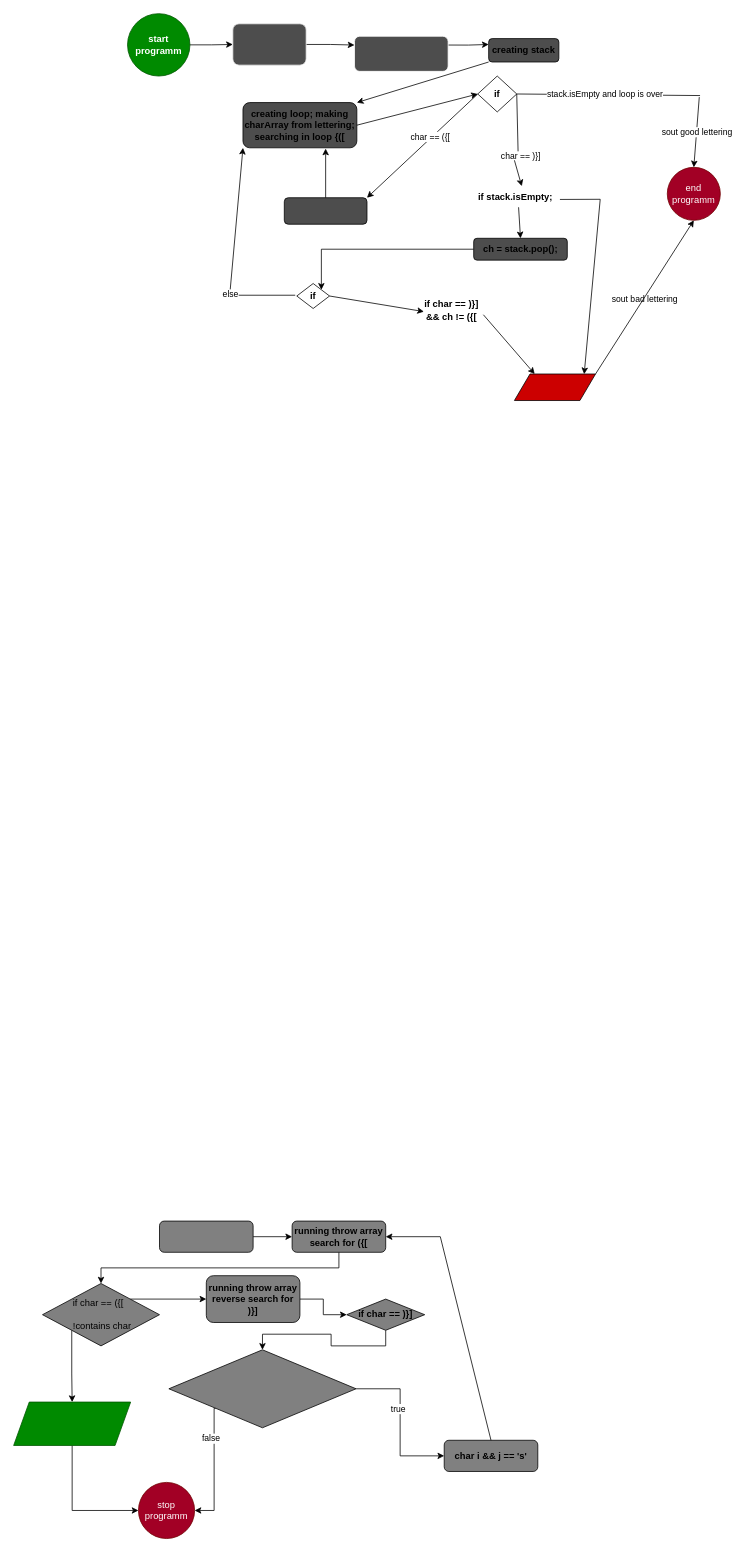
Some shapes in this 746 by 1552 pixel diagram are drawn without their labels. The shapes that lost their labels are listed below. From the top down, each one's box as (x1, y1, x2, y2) in pixels, then its label:
(232, 23, 306, 65): entering the lettering with scanner
(354, 35, 448, 71): checking brackets (lettering)
(284, 197, 367, 224): stack.push(char)
(514, 373, 596, 401): return false;
(159, 1220, 253, 1252): convert String to char array
(168, 1349, 356, 1428): isMatchingBrackets() == false true
(13, 1401, 131, 1445): TRUE || BRRACKETS ARE GOOD
